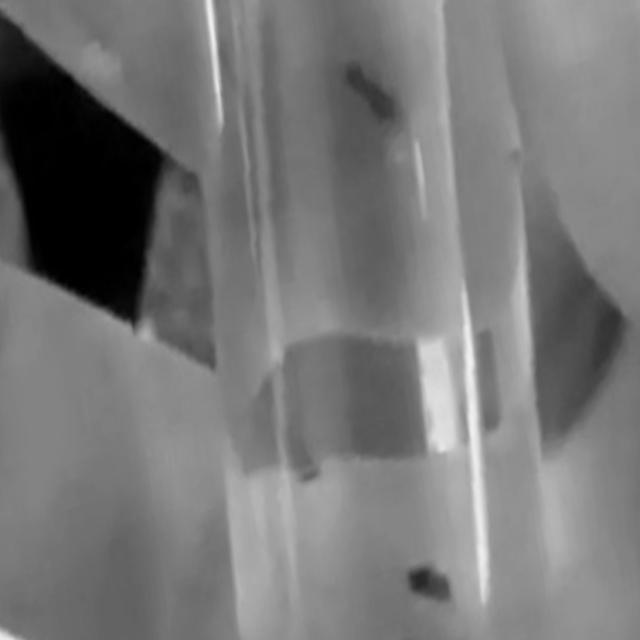larvas: (270, 360, 320, 480), (354, 68, 396, 115), (408, 566, 454, 600)
